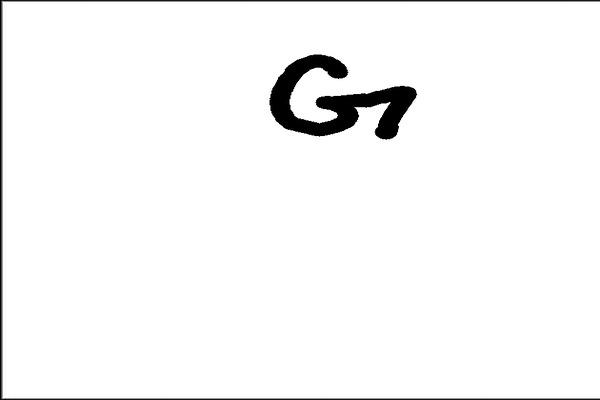G: (265, 46, 426, 169)
